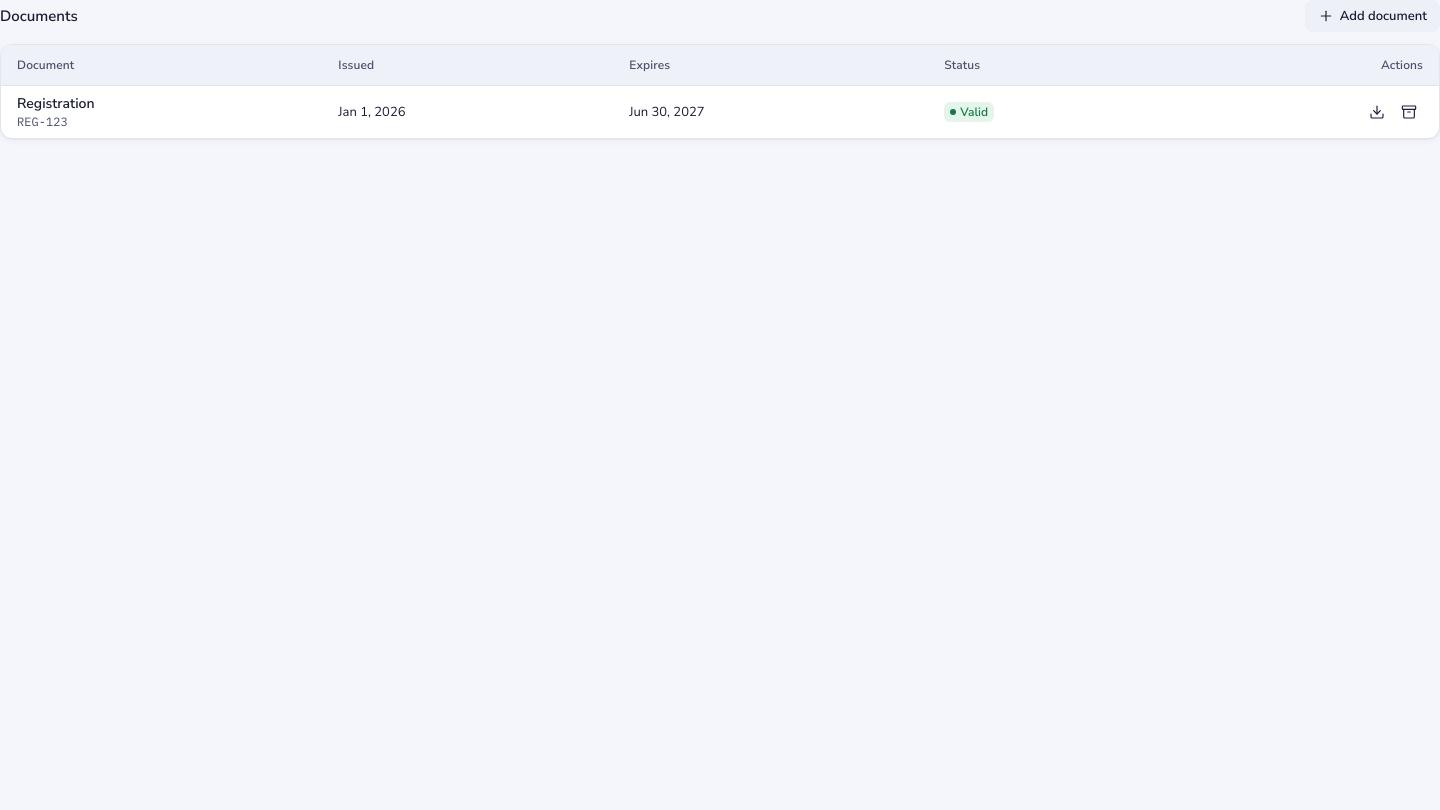
DocumentsSection › archives only after a confirmation that names the document, then refetches
The width and height of the screenshot is (1440, 810).
Click the button named "Archive Registration REG-123" at (1409, 112), box [1395,98,1423,126]
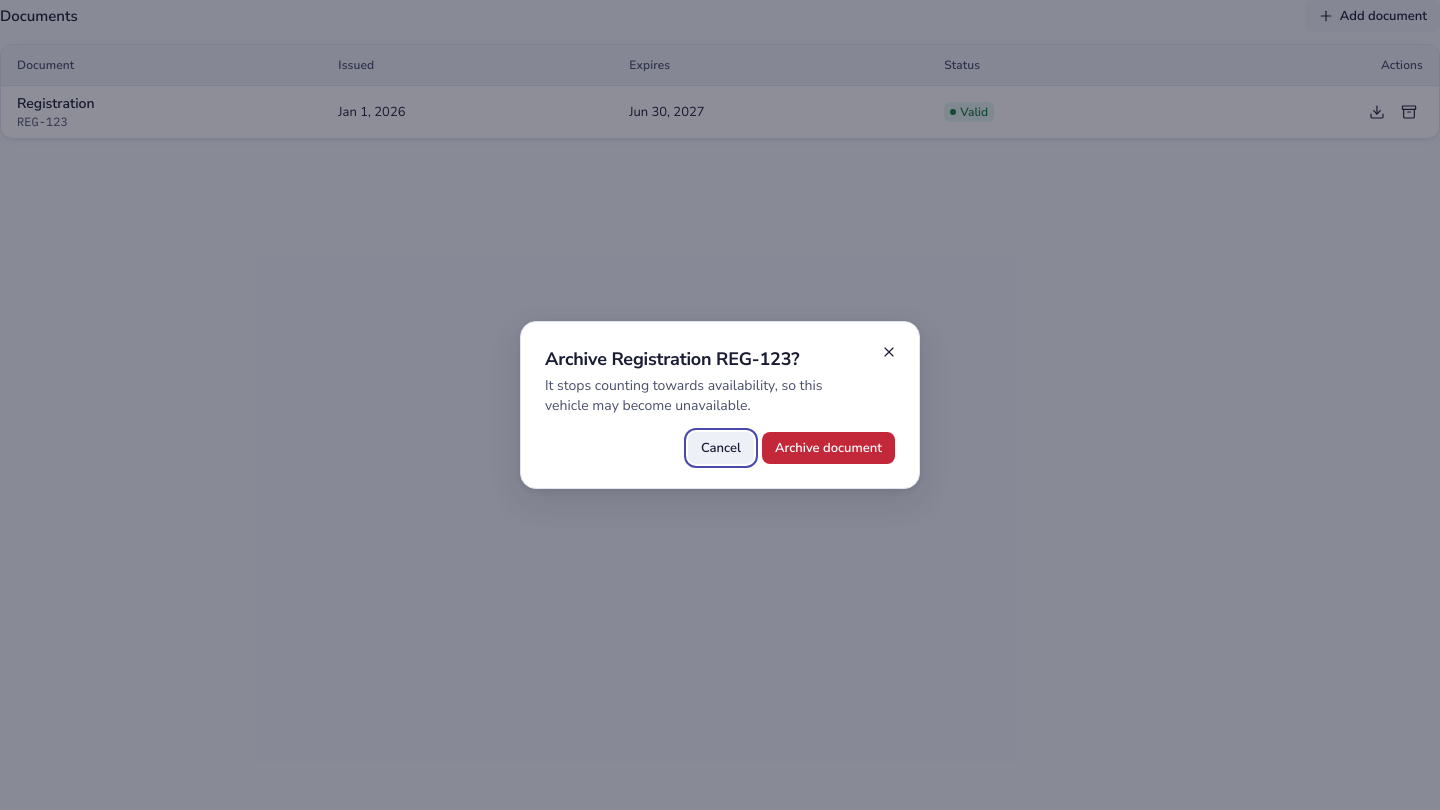
Expected: the heading "Archive Registration REG-123?" is shown, [545,347,799,371]
Click the button "Archive document" at (828, 448), box [762,432,895,464]
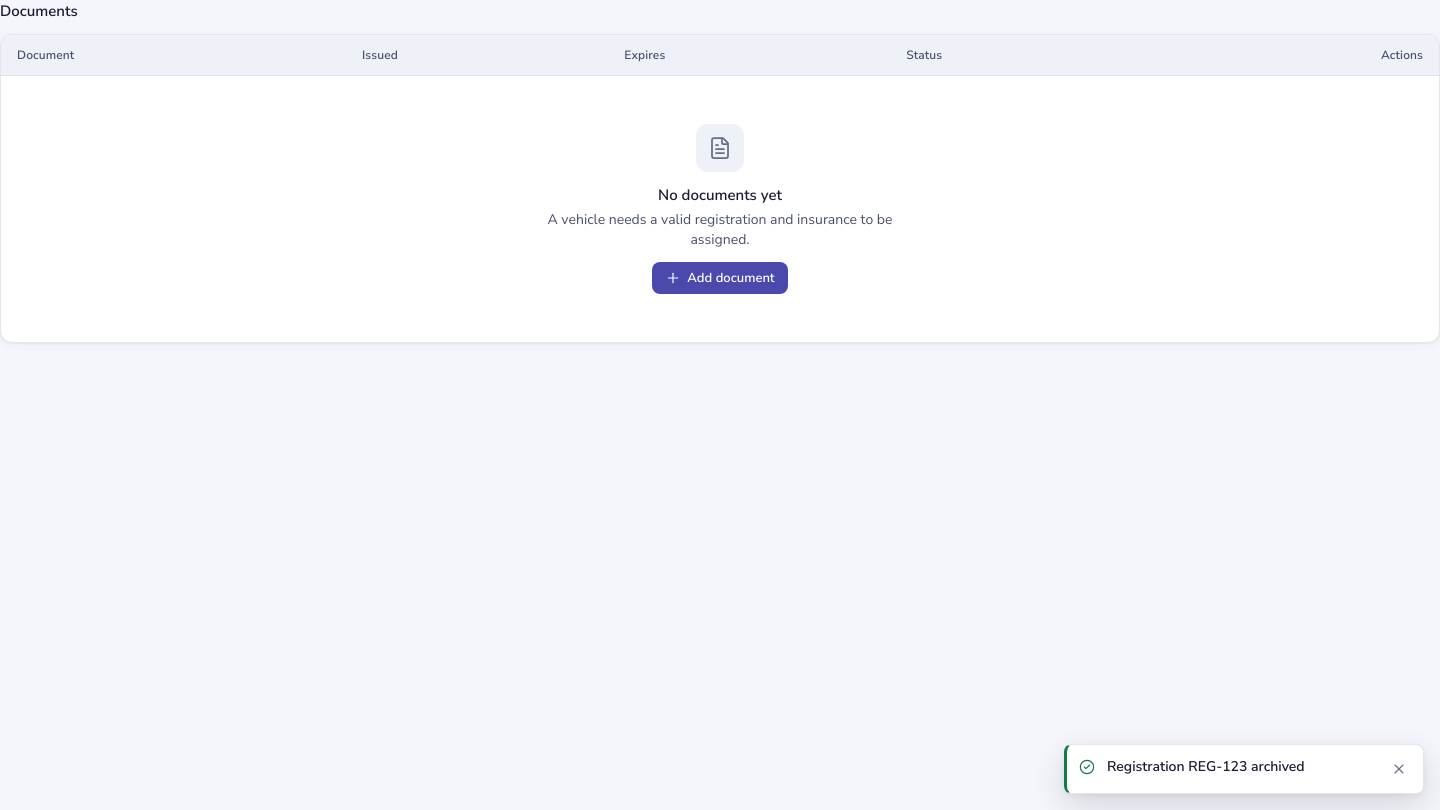
Expected: the heading "No documents yet" is shown, [658,185,782,205]
Expected: the text "Registration REG-123 archived" is shown, [1107,757,1305,776]
